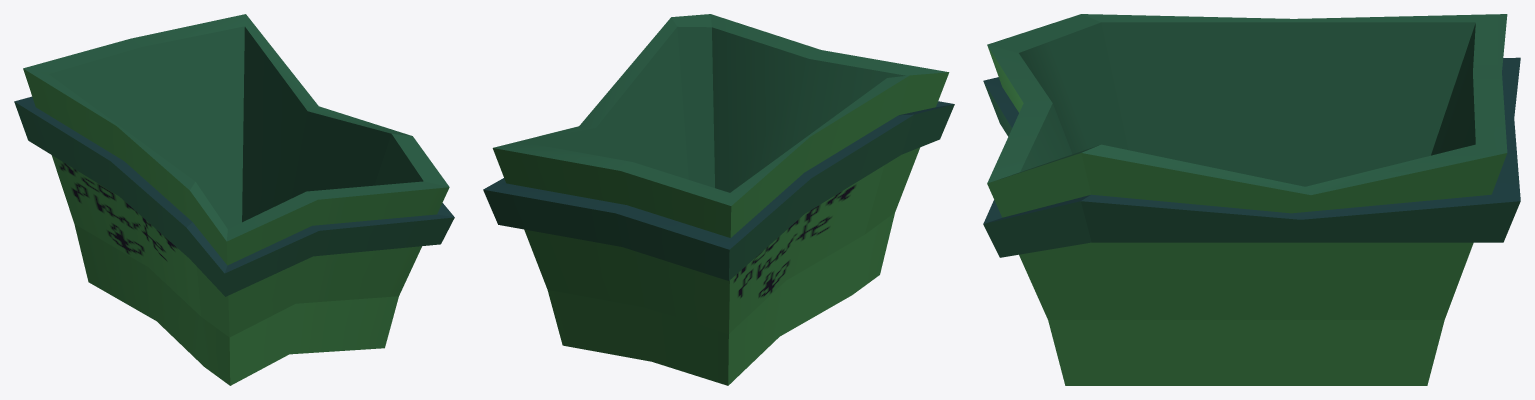
The model's file is CacambaQuebrada.fbx.
3 views of the same model, side by side, from view 1: azimuth 30°, elevation 25°; view 2: azimuth 150°, elevation 25°; view 3: azimuth 270°, elevation 25° (orthographic). The views are drawn at different scales.
Parts seen in each view (by area): view 1: cacamba; view 2: cacamba; view 3: cacamba.
Part boxes in pixels (bbox=[...]): cacamba: bbox=[14, 14, 454, 385]; cacamba: bbox=[483, 14, 954, 385]; cacamba: bbox=[983, 14, 1520, 385].
Size of the model in its own units: 128 by 202 by 109.
